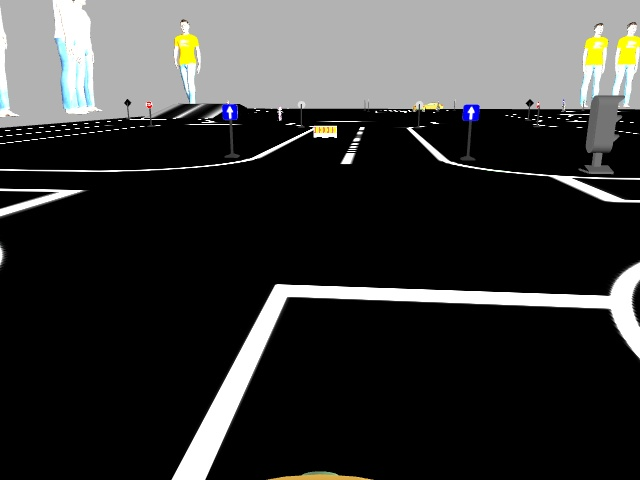ClosedRoadStand: (310, 125, 335, 137)
OneWay: (462, 104, 478, 120), (222, 105, 238, 120)
